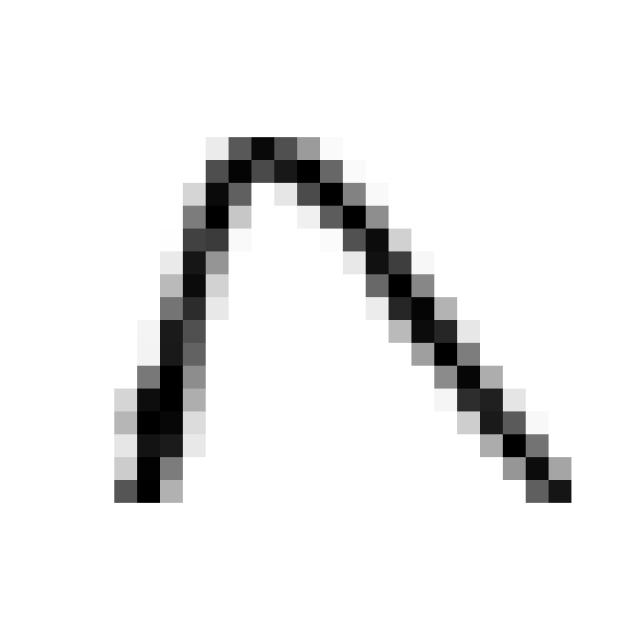8 -eight-: (105, 94, 592, 533)
